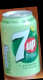sevenup: (1, 10, 41, 77)
